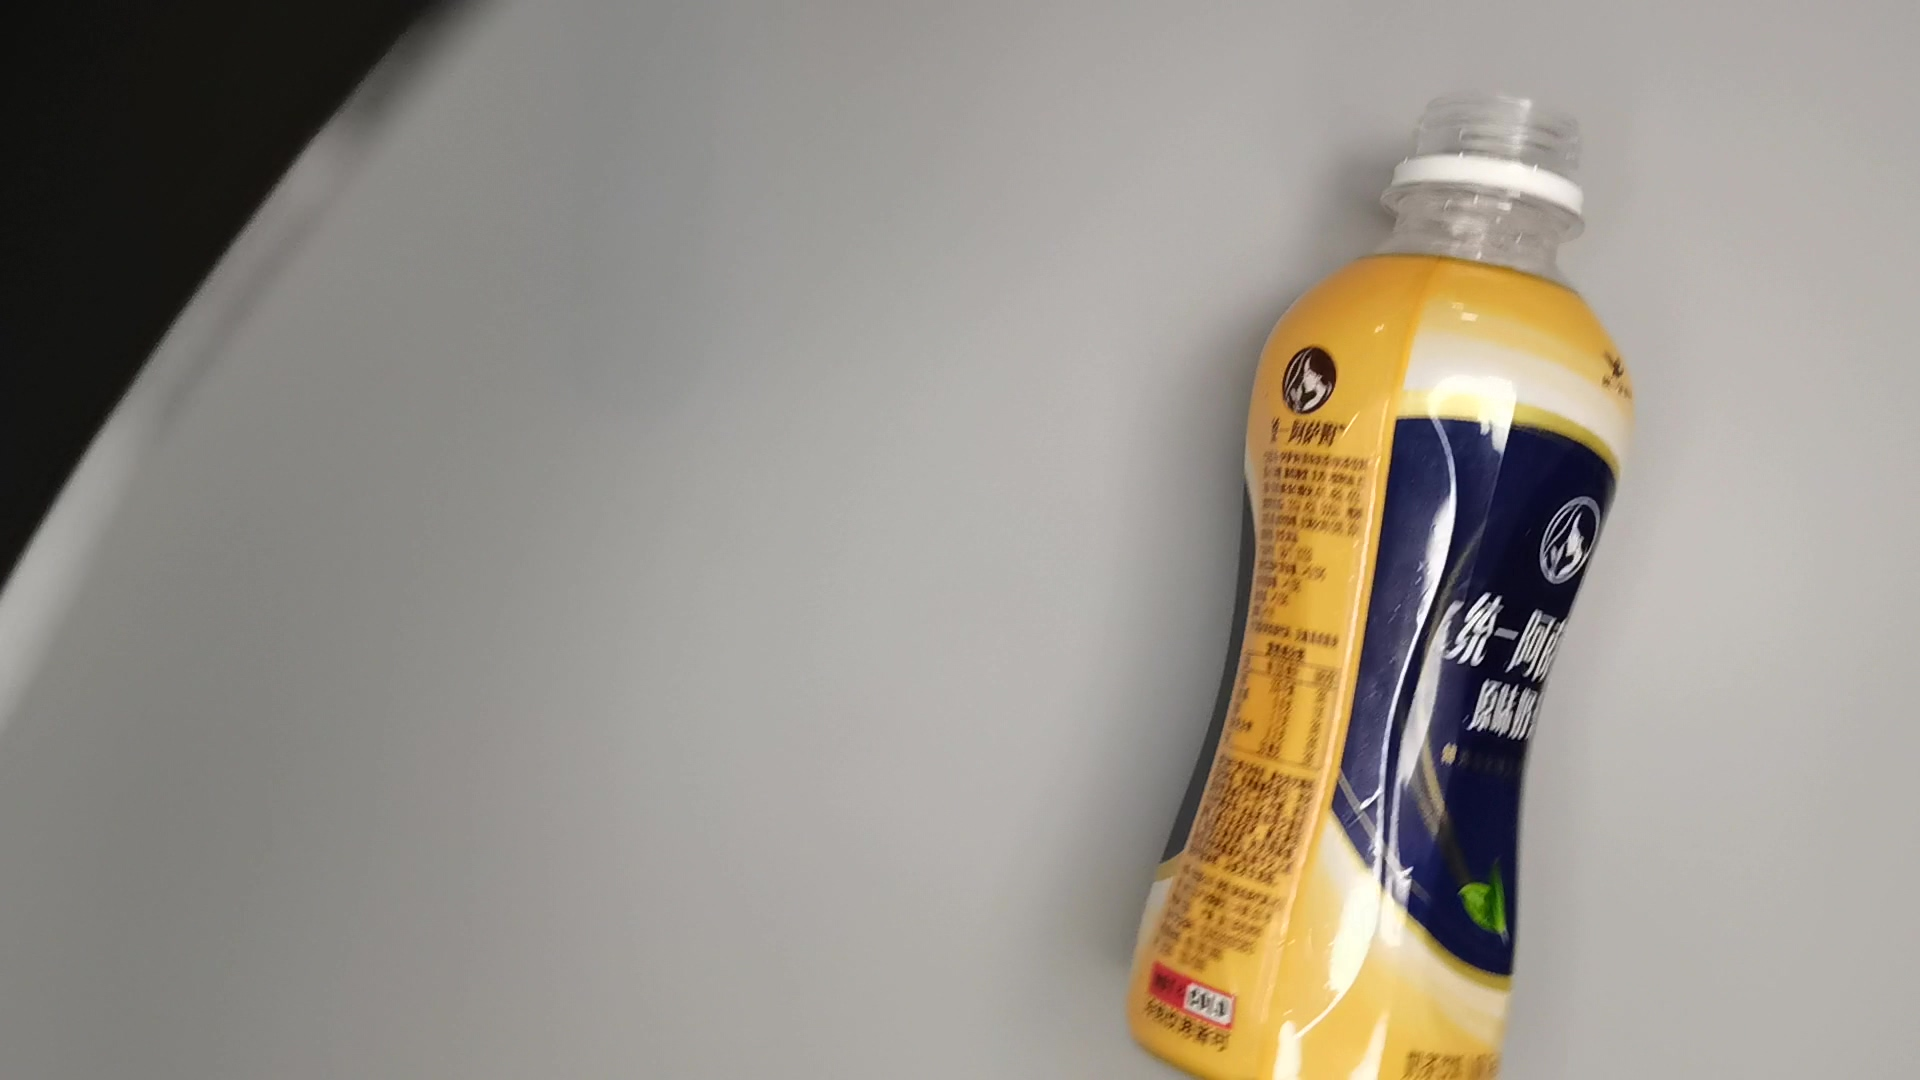bottle: (1106, 83, 1651, 1080)
